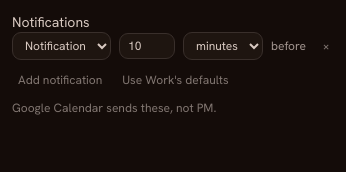
ReminderList › a row past four weeks shows its problem, isn't committed, and holds the editor's save
Select "weeks" in the dropdown named "Unit: 10 minutes before": (223, 46) [183, 32, 263, 60]
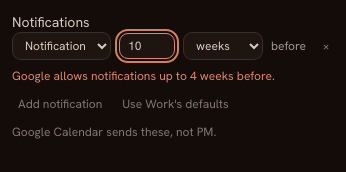
Result: the text "Google allows notifications up to 4 weeks before." is shown at [12, 68, 275, 84]
Replace the text in the field named "How many: 10 minutes before" with "2": (147, 46) [119, 33, 175, 59]
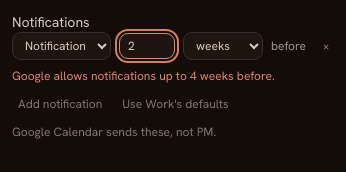
Leave the field named "How many: 10 minutes before", box [119, 33, 175, 59]
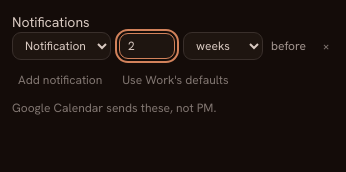
Result: the text "up to 4 weeks" is gone
